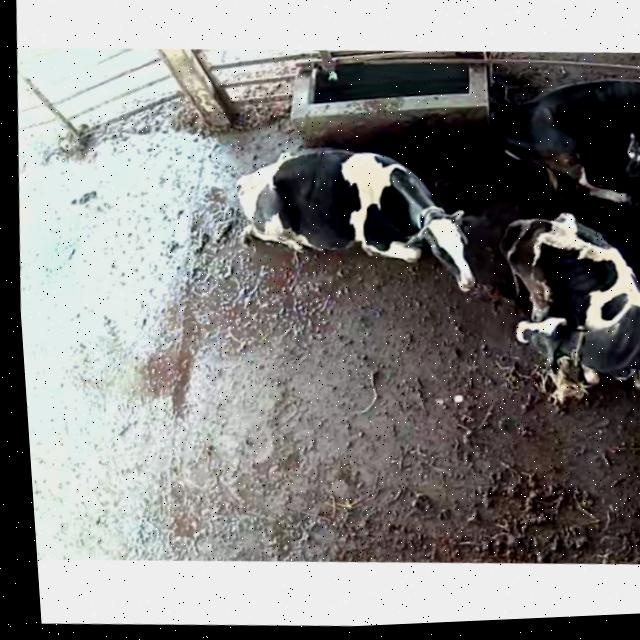lay: (196, 117, 490, 315), (481, 208, 640, 420), (489, 66, 640, 215)
